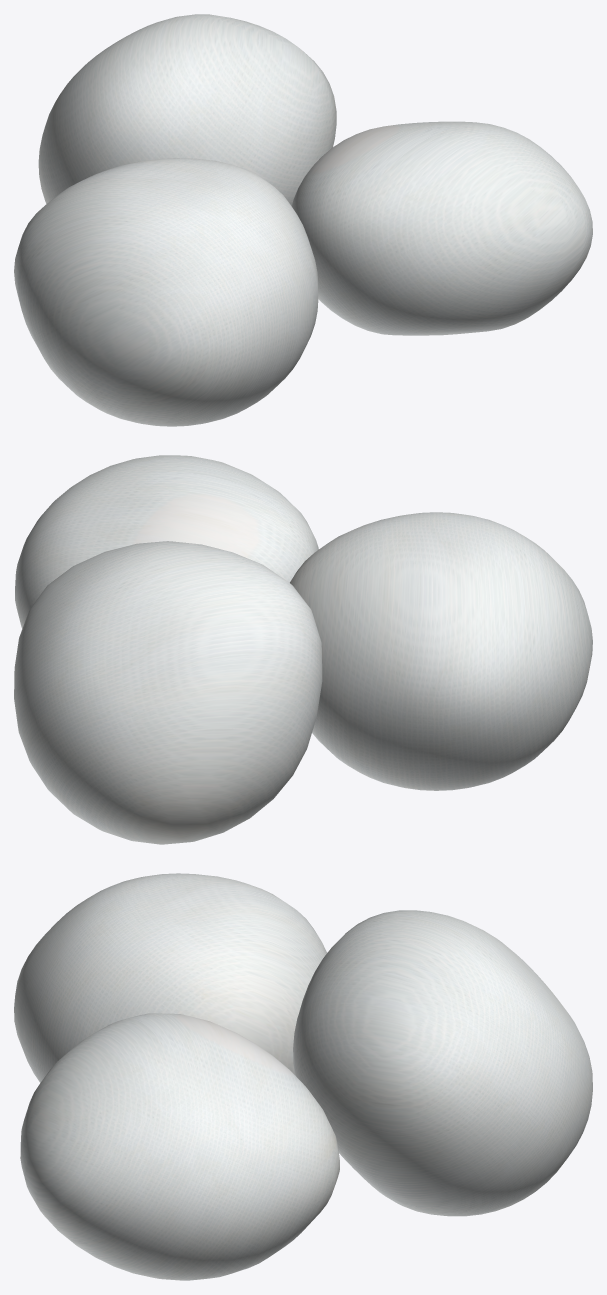
Rendered from GacCuAu.fbx.
3 renders of one model, top to bottom at view 1: azimuth 30°, elevation 25°; view 2: azimuth 150°, elevation 25°; view 3: azimuth 270°, elevation 25°, orthographic. The views are drawn at different scales.
Parts seen in each view (by area): view 1: GacCuAu, GacCuAu1, GacCuAu2; view 2: GacCuAu2, GacCuAu, GacCuAu1; view 3: GacCuAu2, GacCuAu1, GacCuAu.
Boxes of the visible parts, x1=… form: GacCuAu: x1=14, y1=158, x2=318, y2=426; GacCuAu1: x1=291, y1=121, x2=592, y2=335; GacCuAu2: x1=38, y1=14, x2=336, y2=205; GacCuAu2: x1=14, y1=541, x2=322, y2=844; GacCuAu: x1=290, y1=512, x2=592, y2=790; GacCuAu1: x1=15, y1=455, x2=318, y2=628; GacCuAu2: x1=293, y1=910, x2=592, y2=1216; GacCuAu1: x1=20, y1=1013, x2=339, y2=1280; GacCuAu: x1=14, y1=873, x2=326, y2=1082.
Size of the model in its own units: 4.05 by 1.92 by 3.7.
Materials: 1 (1 with a texture image).
